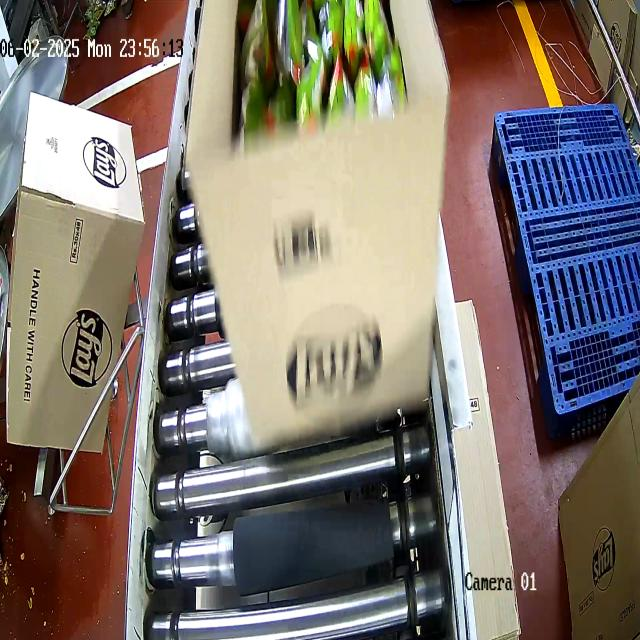YOGURT_HERB: (233, 0, 402, 137)
